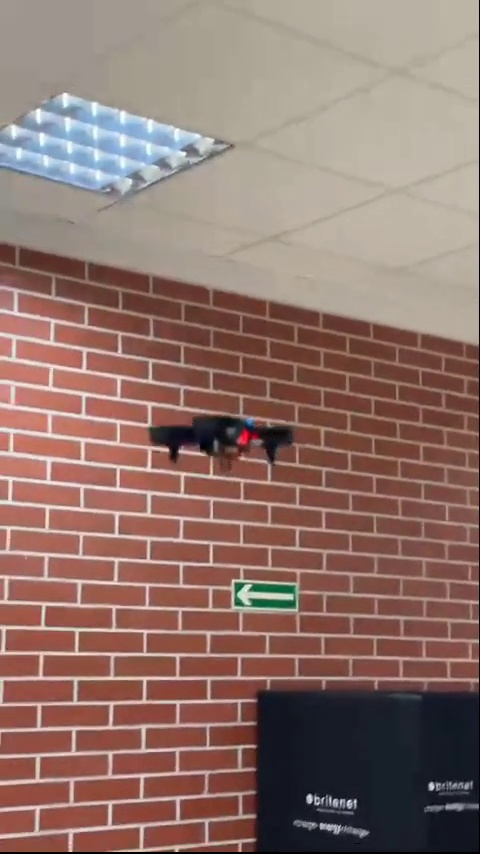drone: (151, 410, 297, 469)
